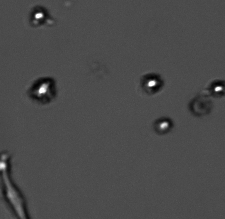Dead Cell: (190, 96, 213, 115)
Living Cell: (28, 78, 57, 102), (151, 116, 175, 133), (141, 75, 163, 93), (29, 6, 50, 24), (210, 81, 225, 96)
